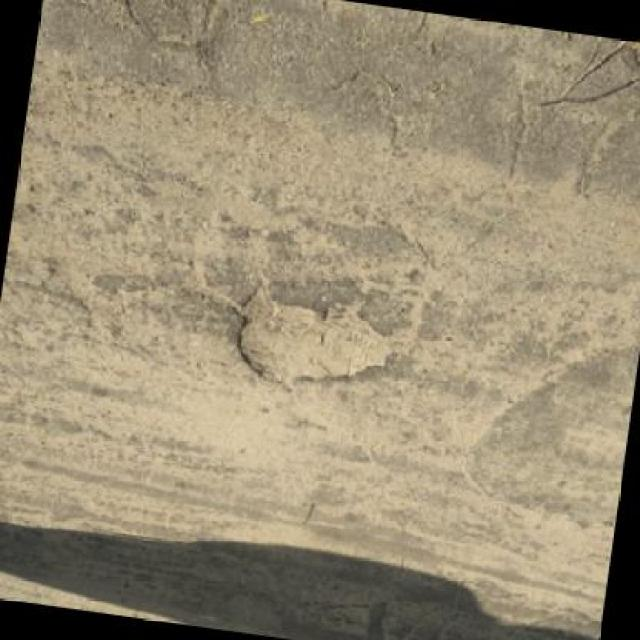pothole1: (221, 276, 402, 407)
